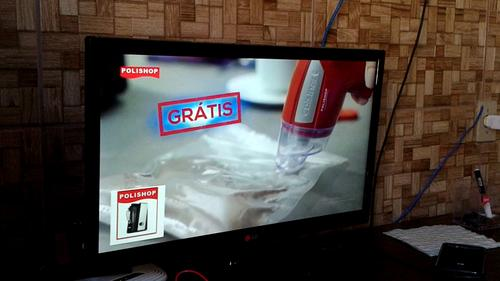Polishop #1: (109, 185, 165, 246)
